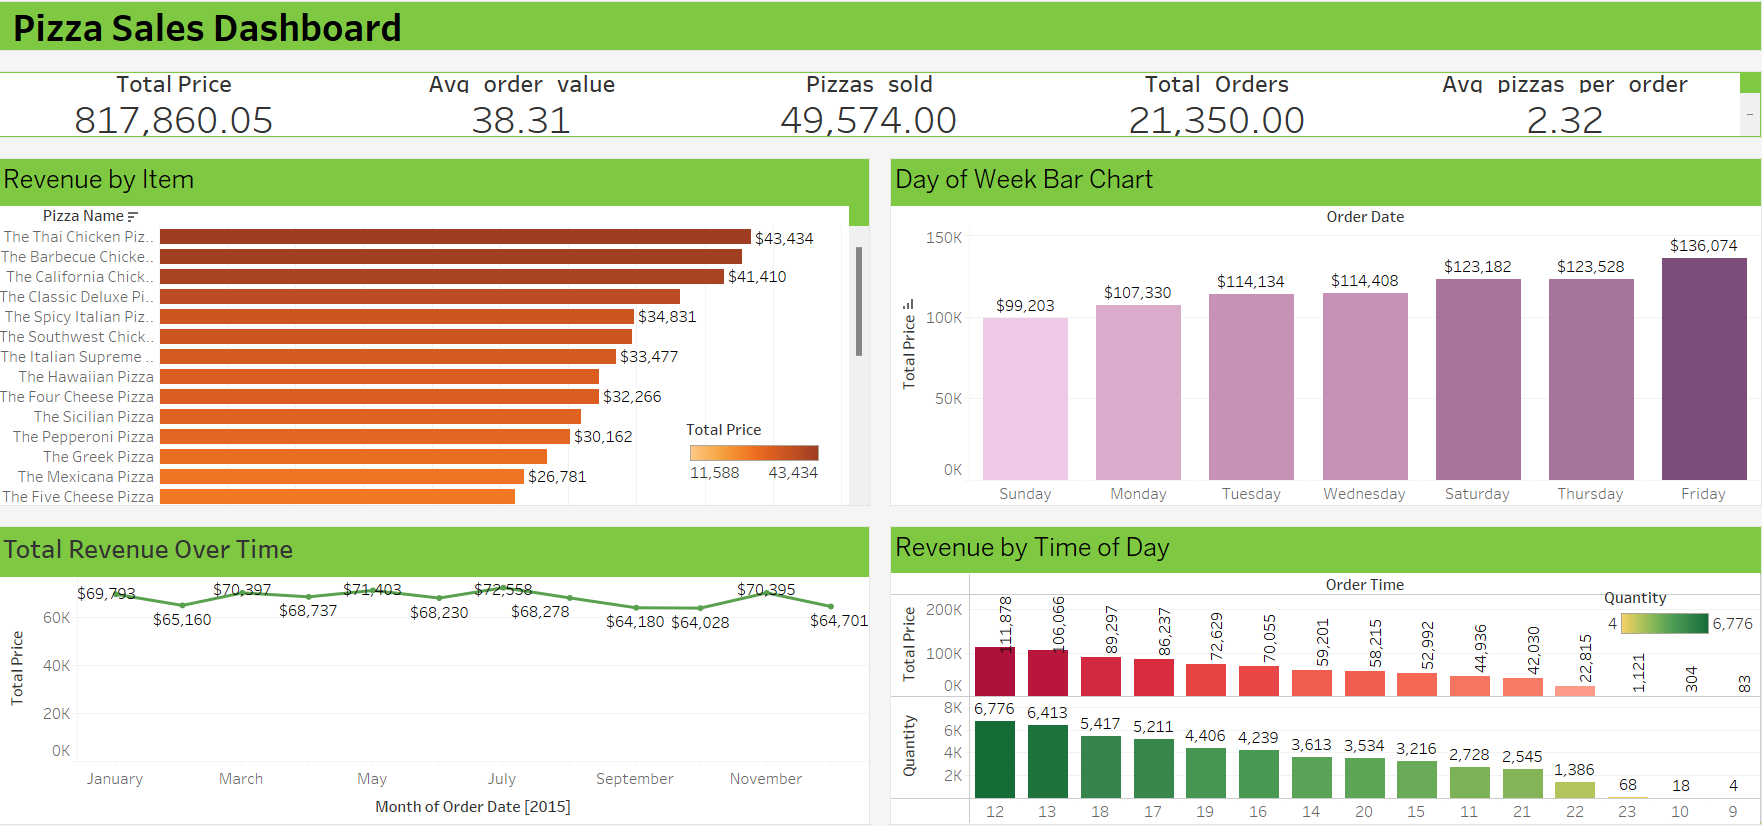

What the dashboard file says about the page in this screenshot:
{"tool":"tableau","page":{"name":"Dashboard 1","canvas":[1000,1000],"units":"permille","ordinal":0},"visuals":[{"type":"title","box":[4.9,9.5,990.2,83.2]},{"type":"worksheet","title":"Sheet 5","mark":"Automatic","box":[4.9,92.7,990.2,100.8]},{"type":"worksheet","title":"Sheet 2","mark":"Automatic","rows":["pizza_name"],"cols":["total_price"],"box":[4.9,193.5,495.1,426.4]},{"type":"worksheet","title":"Sheet 3","mark":"Bar","rows":["total_price"],"cols":["order_date"],"box":[500,193.5,495.1,426.4]},{"type":"legend","title":"Sheet 2","param":"[federated.0nt9rt9085ff9d1d756ez0n1yl60].[sum:total_price:qk]","box":[392.2,506.5,76.4,76.1]},{"type":"worksheet","title":"Sheet 1","mark":"Line","rows":["total_price"],"cols":["order_date"],"box":[4.9,619.9,495.1,370.6]},{"type":"worksheet","title":"Sheet 4","mark":"Automatic","rows":["total_price","quantity"],"cols":["order_time"],"box":[500,619.9,495.1,370.6]},{"type":"legend","title":"Sheet 4","param":"[federated.0nt9rt9085ff9d1d756ez0n1yl60].[sum:quantity:qk]","box":[902.3,702.7,85.5,72.5]}]}

Visuals, with their boxes on the dashboard's canvas, which has no fixed pixel size, in thousandths of its width and height (x1, y1, x2, y2). These are canvas units, not pixel positions in the 1762x826 screenshot, which may show the page scaled, cropped or inside an application window:
title: (5,10,995,93)
"Sheet 5" worksheet: (5,93,995,194)
"Sheet 2" worksheet: (5,194,500,620)
"Sheet 3" worksheet (Bar marks): (500,194,995,620)
"Sheet 2" legend: (392,506,469,583)
"Sheet 1" worksheet (Line marks): (5,620,500,990)
"Sheet 4" worksheet: (500,620,995,990)
"Sheet 4" legend: (902,703,988,775)
